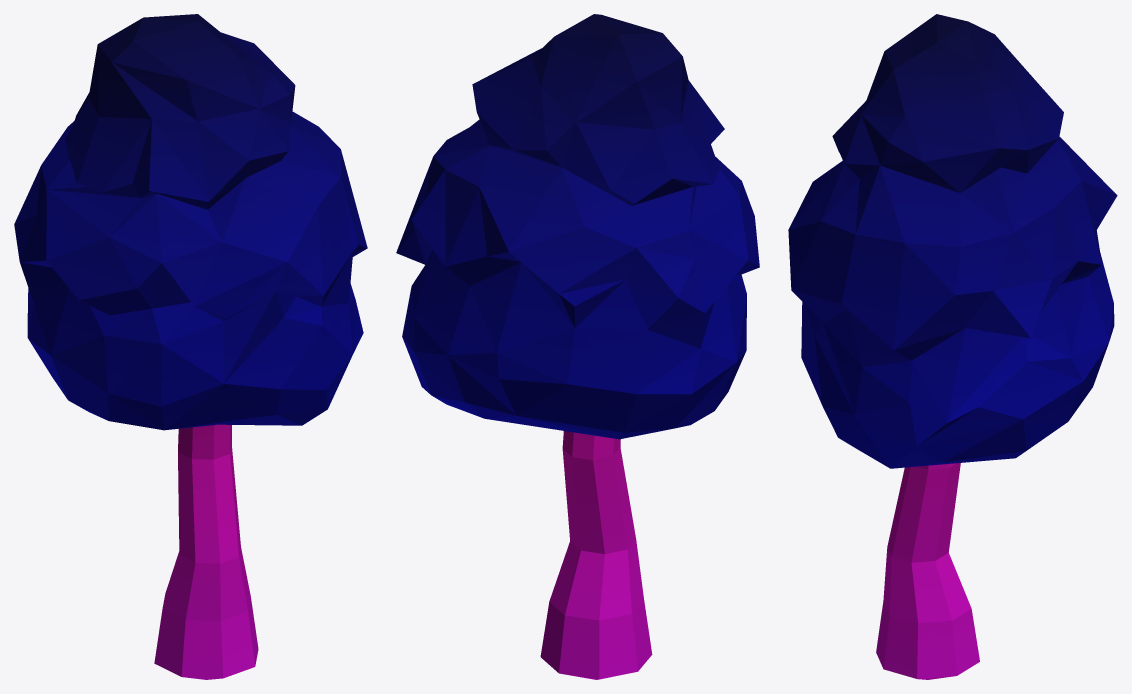
File: SM_Tree_Round_03.gltf
3 views of the same model, side by side, from view 1: azimuth 30°, elevation 25°; view 2: azimuth 150°, elevation 25°; view 3: azimuth 270°, elevation 25° (orthographic). The views are drawn at different scales.
Parts seen in each view (by area): view 1: SM_Tree_Round_03; view 2: SM_Tree_Round_03; view 3: SM_Tree_Round_03.
Part boxes in pixels (box(x1,y1,x2,y2)): SM_Tree_Round_03: box(14, 14, 367, 679); SM_Tree_Round_03: box(396, 14, 759, 679); SM_Tree_Round_03: box(788, 14, 1117, 679).
Size of the model in its own units: 1.78 by 3.6 by 1.68.
